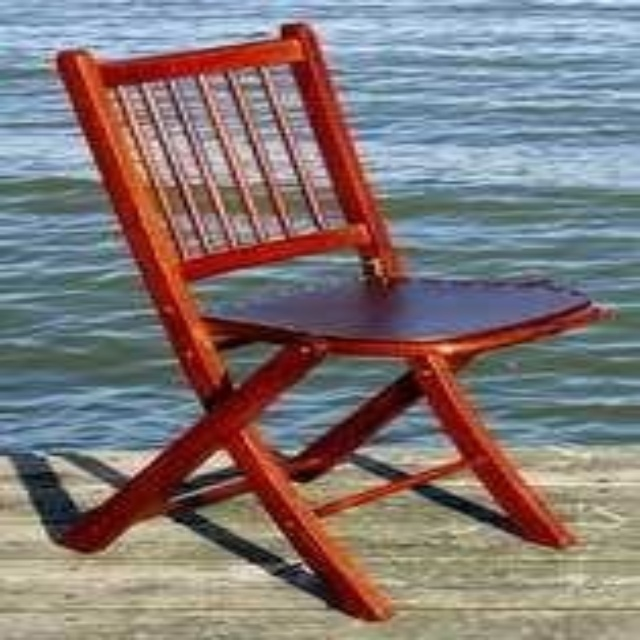obstacle: (16, 24, 603, 619)
